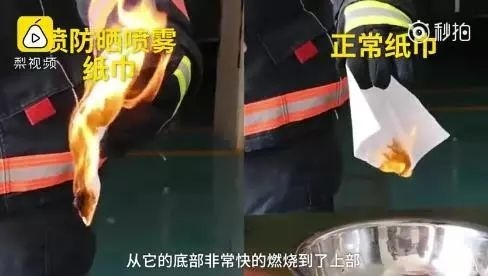fire: (363, 124, 418, 176)
